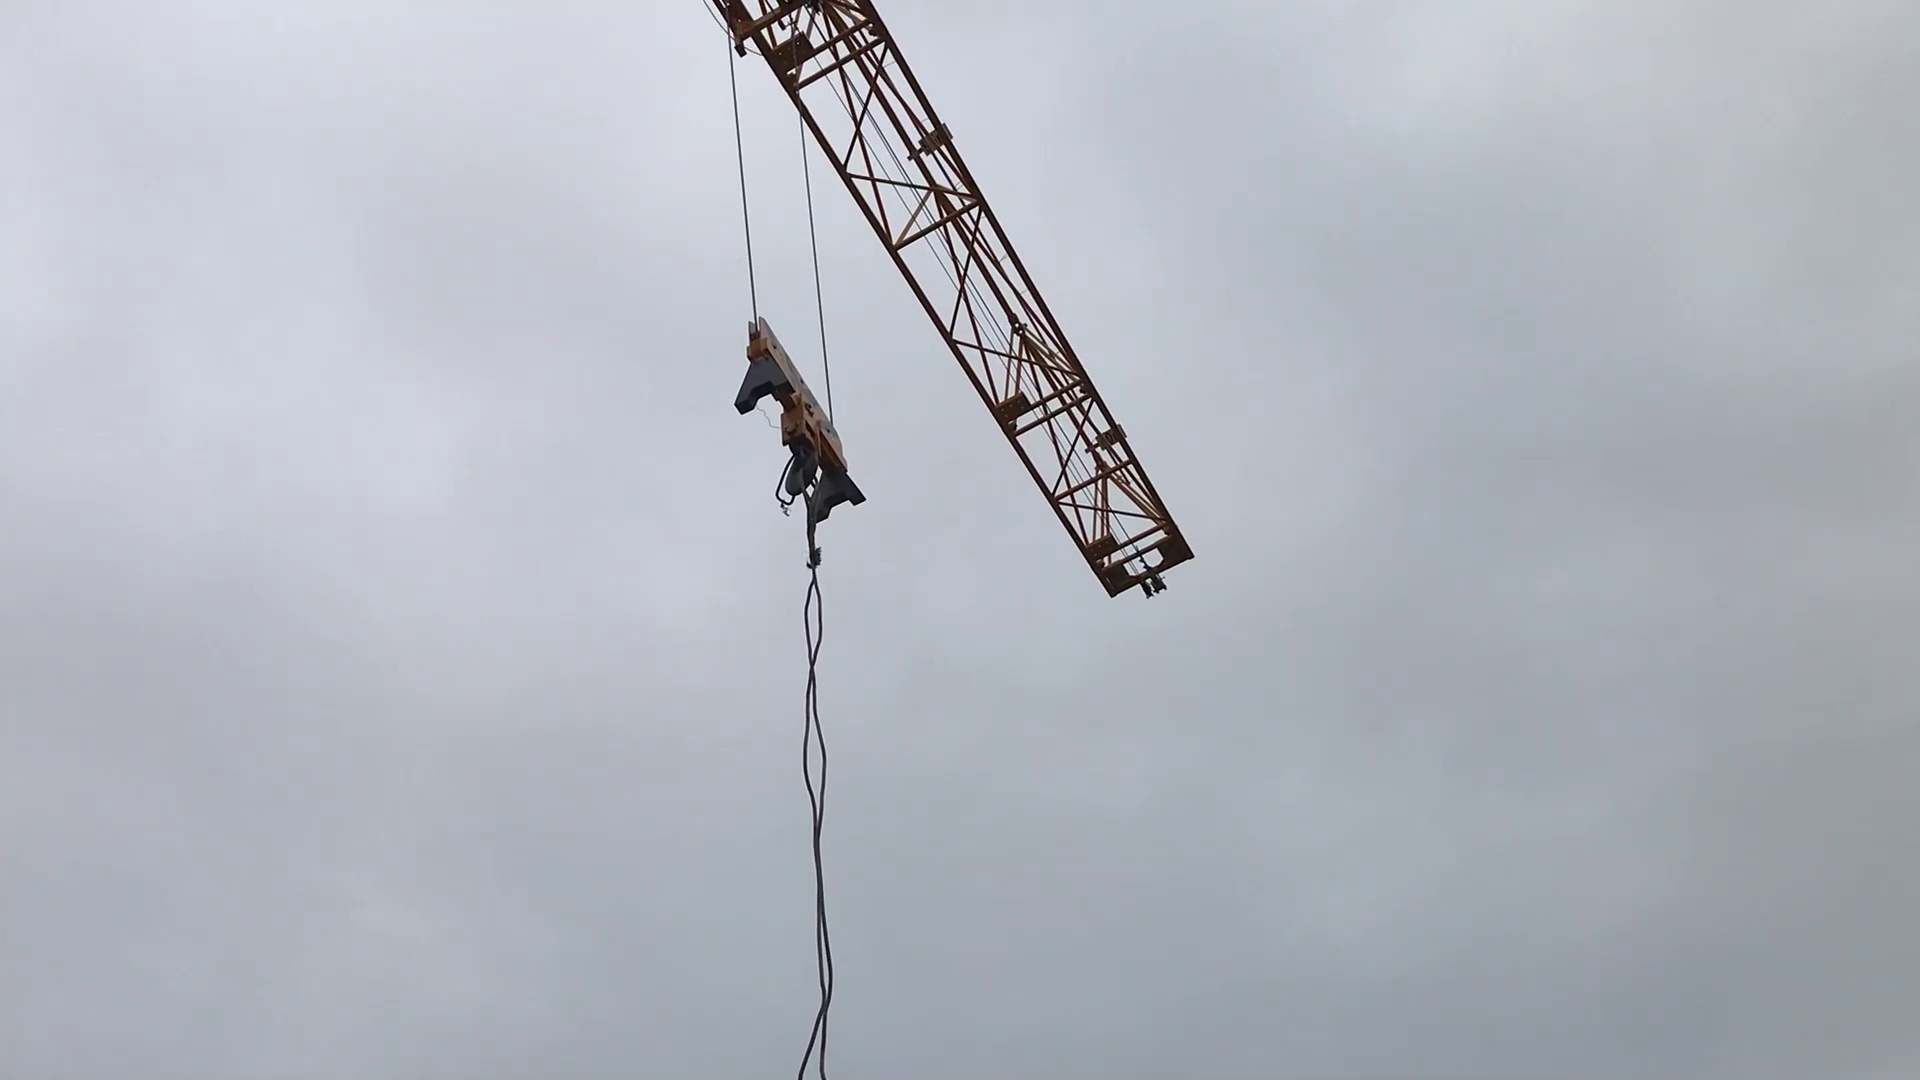hook: (708, 299, 898, 553)
